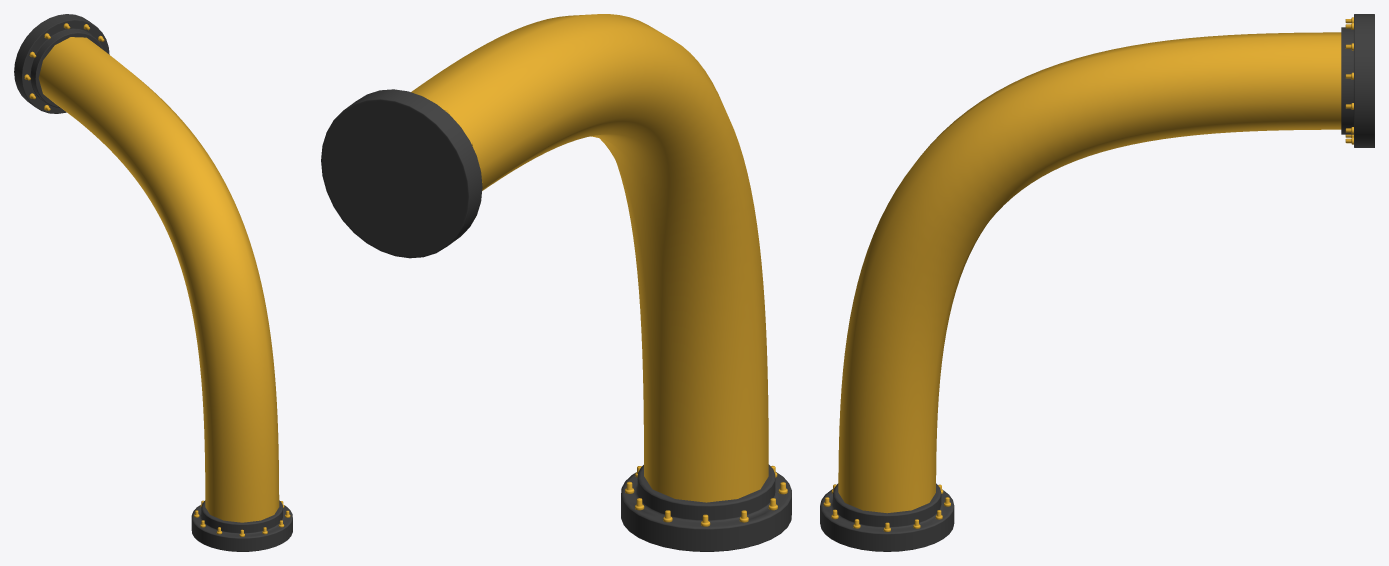
The model's file is PipeAngle.fbx.
3 views of the same model, side by side, from view 1: azimuth 30°, elevation 25°; view 2: azimuth 150°, elevation 25°; view 3: azimuth 270°, elevation 25° (orthographic). The views are drawn at different scales.
Visible parts, largest first — view 1: Pipe, Giunzione1, Giunzione2; view 2: Pipe, Giunzione1, Giunzione2; view 3: Pipe, Giunzione2, Giunzione1.
Boxes of the visible parts, bbox=[...] form: Pipe: bbox=[38, 37, 279, 522]; Giunzione1: bbox=[14, 14, 109, 113]; Giunzione2: bbox=[191, 500, 292, 551]; Pipe: bbox=[411, 14, 768, 502]; Giunzione1: bbox=[321, 89, 482, 258]; Giunzione2: bbox=[621, 464, 791, 551]; Pipe: bbox=[838, 32, 1341, 513]; Giunzione2: bbox=[820, 483, 954, 551]; Giunzione1: bbox=[1341, 14, 1374, 147].
Bounding box in the file's own units: 27.48 × 114 × 114.
